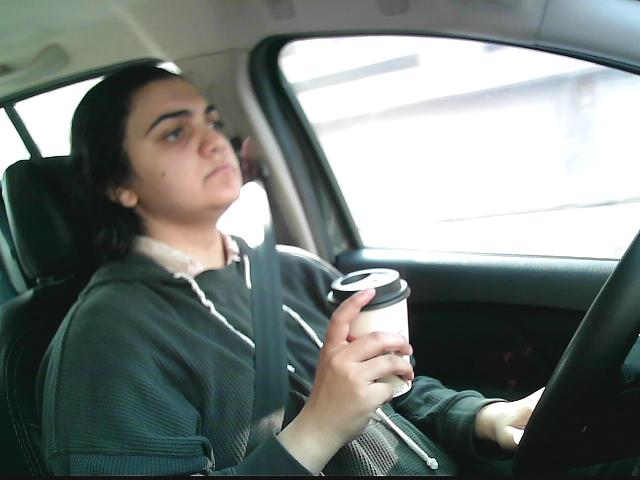Drinking: (328, 256, 413, 407)
